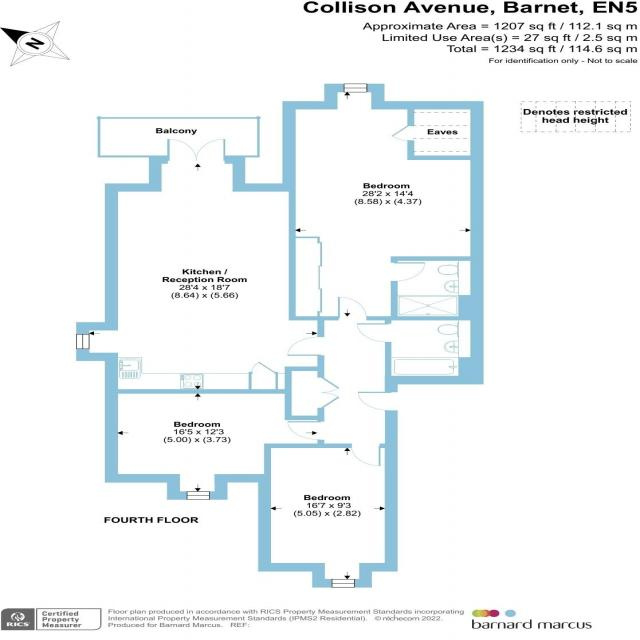DOOR: (357, 391, 398, 411), (286, 420, 325, 441), (286, 336, 325, 357), (349, 443, 382, 467), (355, 322, 392, 343), (337, 296, 368, 321), (390, 262, 427, 282)
DOUBLE DOOR: (166, 137, 227, 164)
ROOM: (75, 138, 325, 394), (282, 83, 484, 322), (104, 389, 325, 500), (258, 443, 398, 588)
WINDOW: (330, 578, 357, 588), (343, 83, 368, 93), (75, 334, 90, 350), (186, 491, 210, 500)
